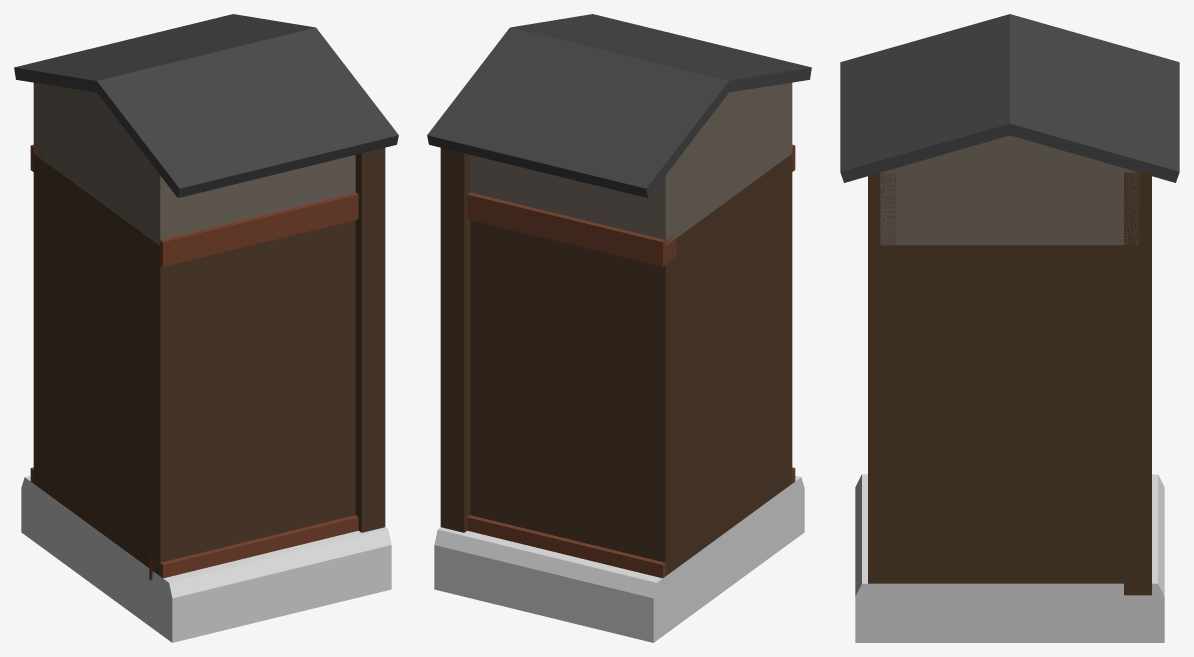
File: Wall.fbx
3 renders of one model, left to right at view 1: azimuth 30°, elevation 25°; view 2: azimuth 150°, elevation 25°; view 3: azimuth 270°, elevation 25°, orthographic. The views are drawn at different scales.
Parts seen in each view (by area): view 1: Wall; view 2: Wall; view 3: Wall.
Boxes of the visible parts, x1,y1,x2,y2 form: Wall: (14,14,398,642); Wall: (427,14,811,642); Wall: (840,14,1179,642).
Bounding box in the file's own units: 100 × 221 × 131.
